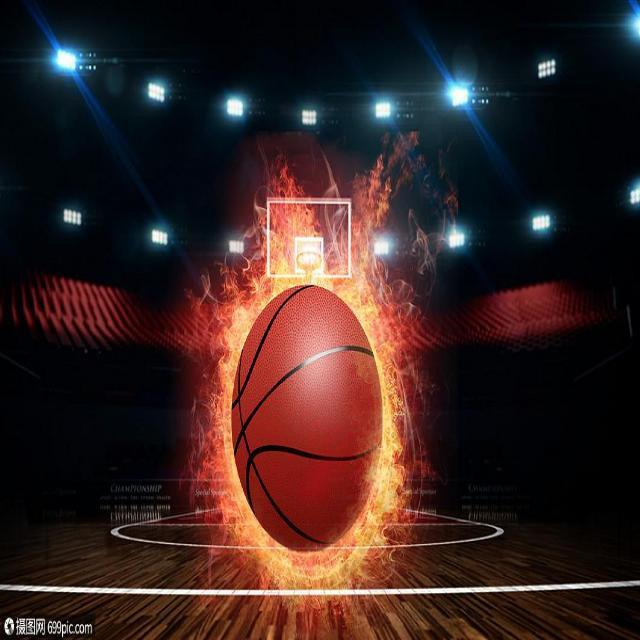rim: (232, 291, 383, 547)
